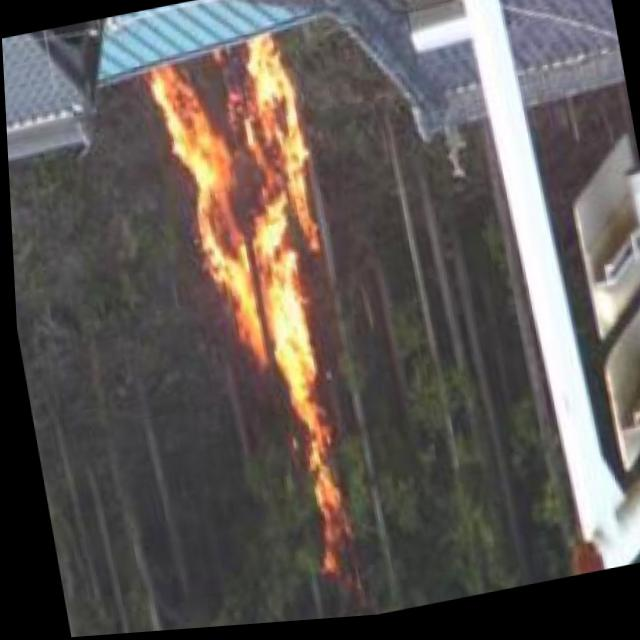Fire: (141, 24, 379, 573)
